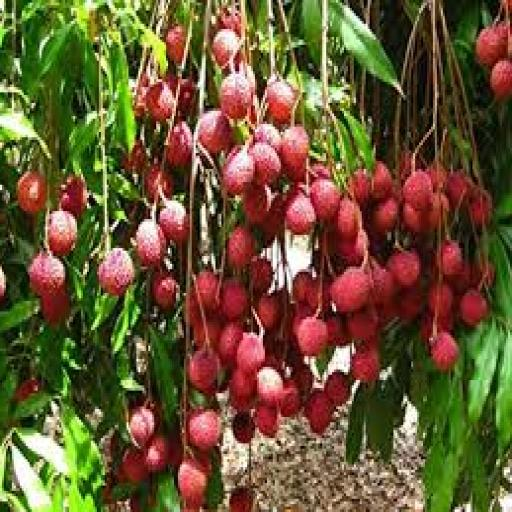lychee: (330, 267, 368, 314), (96, 249, 133, 295), (27, 251, 64, 295), (219, 72, 252, 121), (197, 109, 232, 155), (280, 127, 309, 182), (221, 148, 254, 195), (474, 24, 509, 68), (134, 220, 165, 266), (187, 349, 218, 393), (264, 80, 295, 124), (304, 388, 333, 435), (187, 410, 220, 451), (47, 209, 76, 255), (177, 460, 206, 506), (284, 191, 315, 234), (158, 201, 188, 245), (310, 177, 339, 221), (15, 172, 46, 213), (164, 122, 192, 166), (249, 143, 279, 184), (144, 80, 174, 121), (296, 317, 327, 356), (227, 225, 254, 269), (387, 251, 420, 287), (401, 172, 431, 211), (241, 183, 269, 224), (219, 280, 248, 319), (128, 407, 155, 448), (211, 30, 240, 68), (144, 164, 172, 203), (237, 333, 263, 374), (430, 333, 457, 372), (193, 270, 218, 311), (59, 177, 85, 216), (256, 367, 281, 406), (460, 291, 487, 327), (349, 349, 378, 382), (120, 447, 147, 482), (152, 272, 176, 311), (336, 198, 358, 240), (144, 436, 169, 472), (324, 370, 348, 406), (164, 24, 184, 65), (490, 61, 511, 100), (253, 404, 277, 438), (253, 125, 279, 153), (231, 412, 254, 443), (229, 489, 254, 511)
